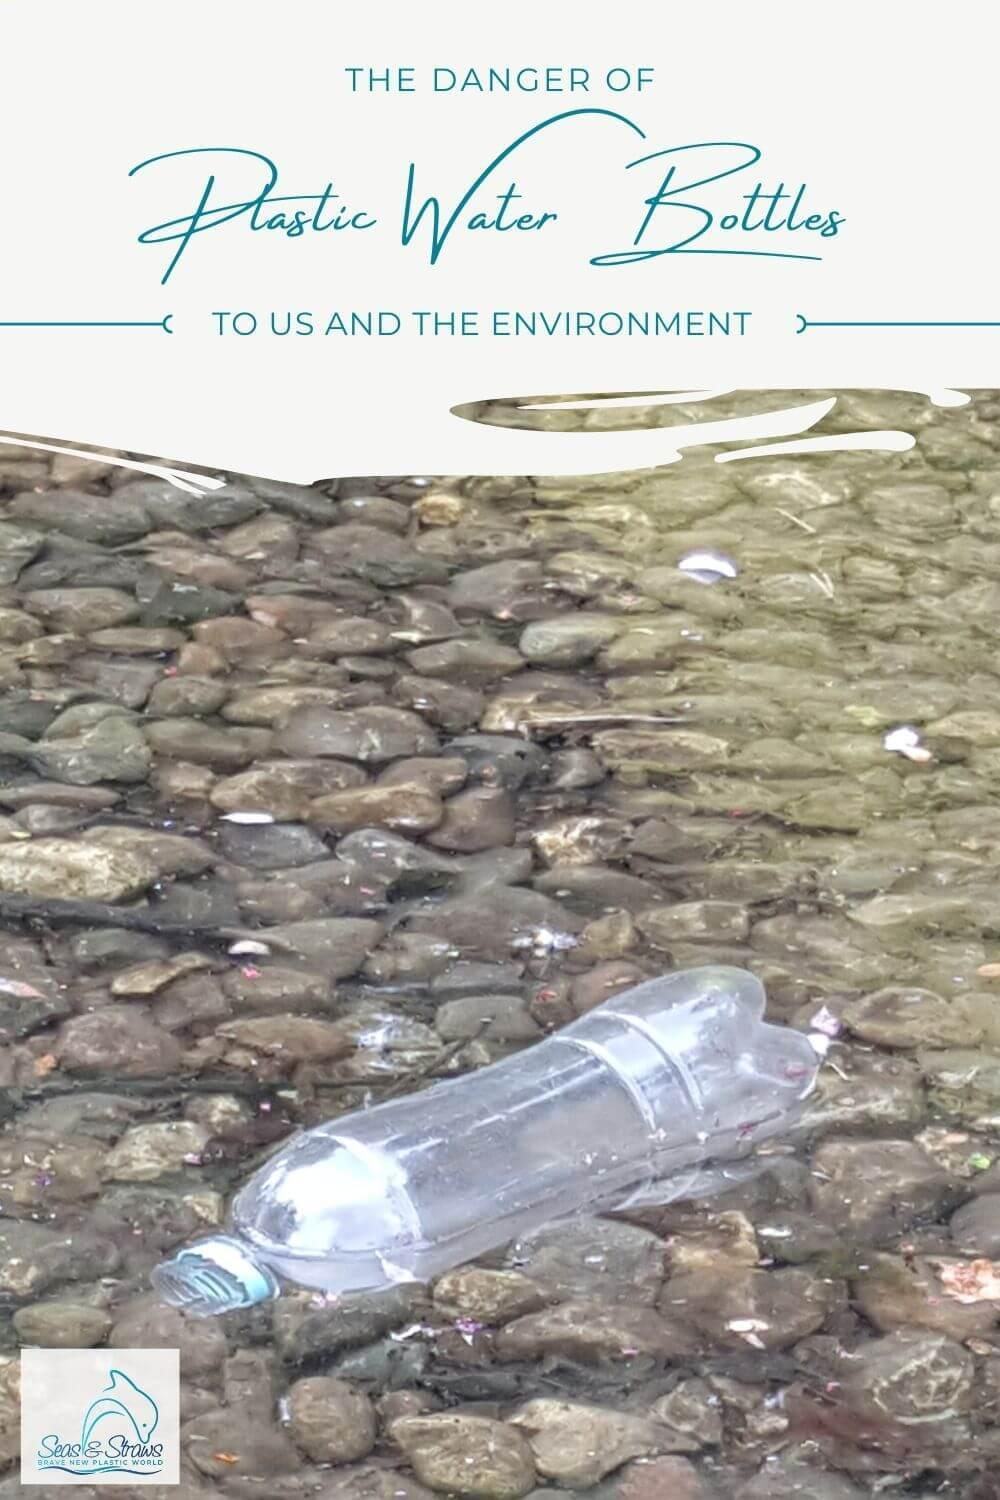bottle: (147, 871, 936, 1414)
